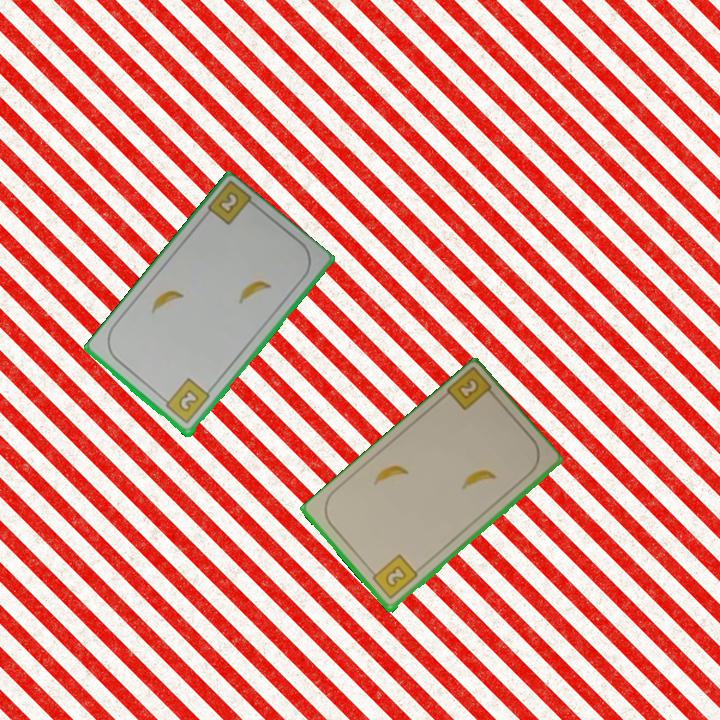2b: (159, 375, 213, 427), (366, 551, 421, 602), (442, 366, 500, 414), (214, 188, 242, 217)
